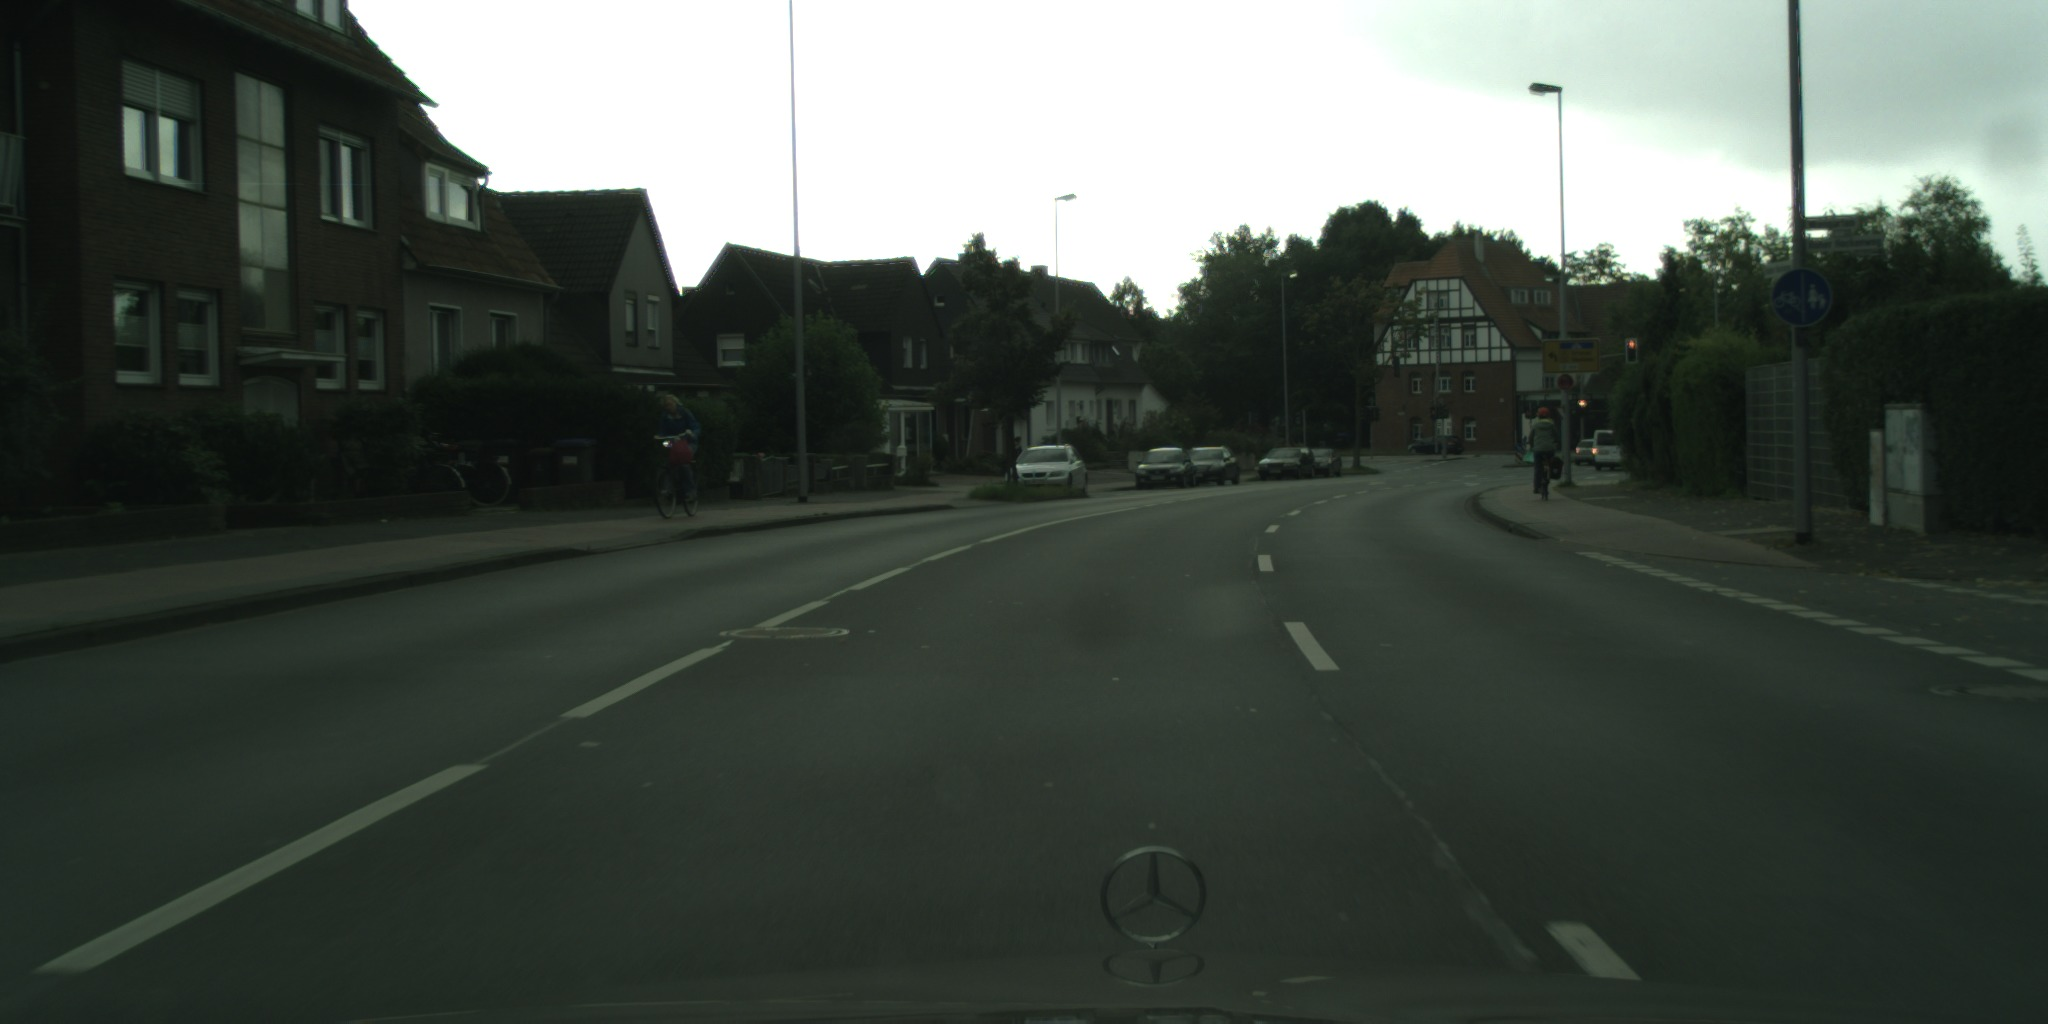bicycle: (652, 432, 701, 521), (1540, 454, 1564, 505)
car: (1007, 443, 1089, 493), (1135, 446, 1196, 491), (1185, 446, 1240, 486), (1258, 446, 1314, 480), (1590, 429, 1630, 472), (1407, 435, 1463, 457), (1310, 448, 1343, 479), (1574, 438, 1600, 467)
rider: (655, 391, 701, 489), (1524, 407, 1559, 496)
